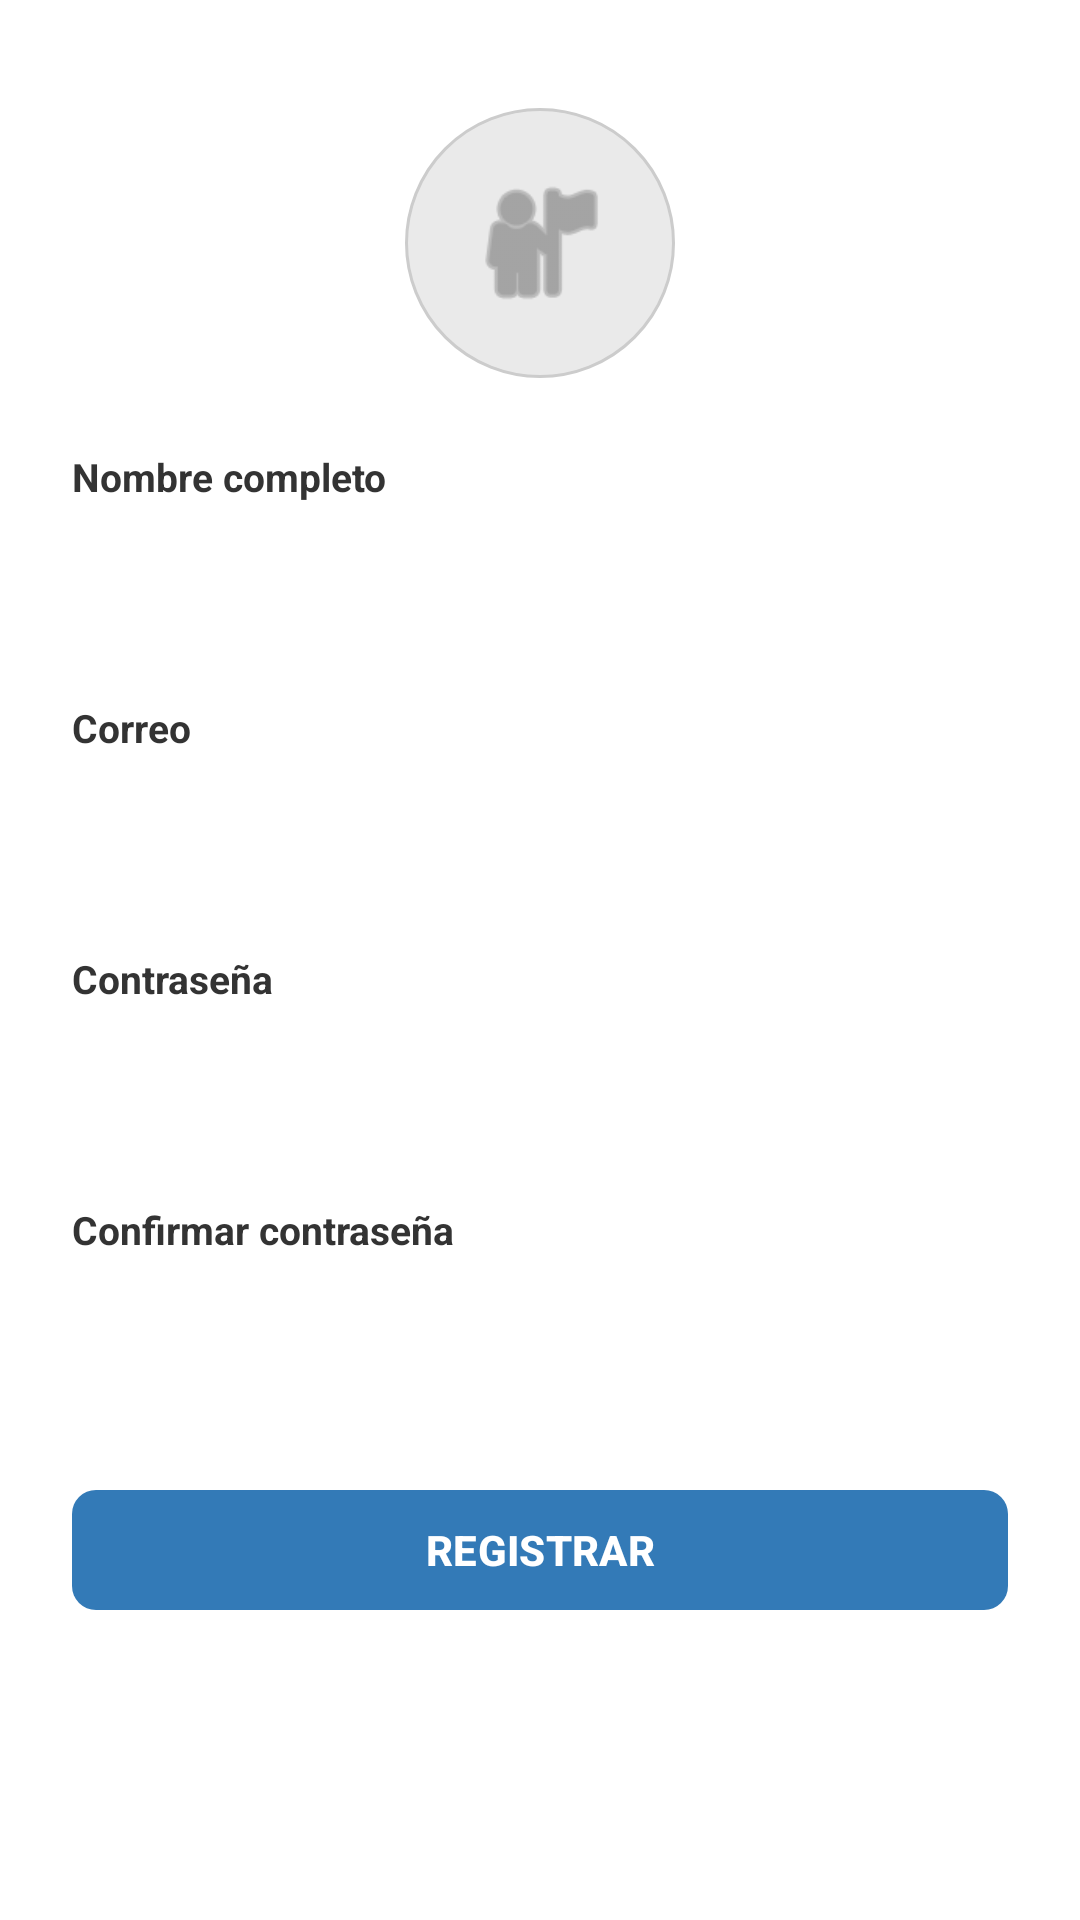

Icon bounding boxes for this 1080w x 1920h phone screenshot, format (x1, y1, x2, y2):
Avatar de usuario: (405, 108, 675, 378)
